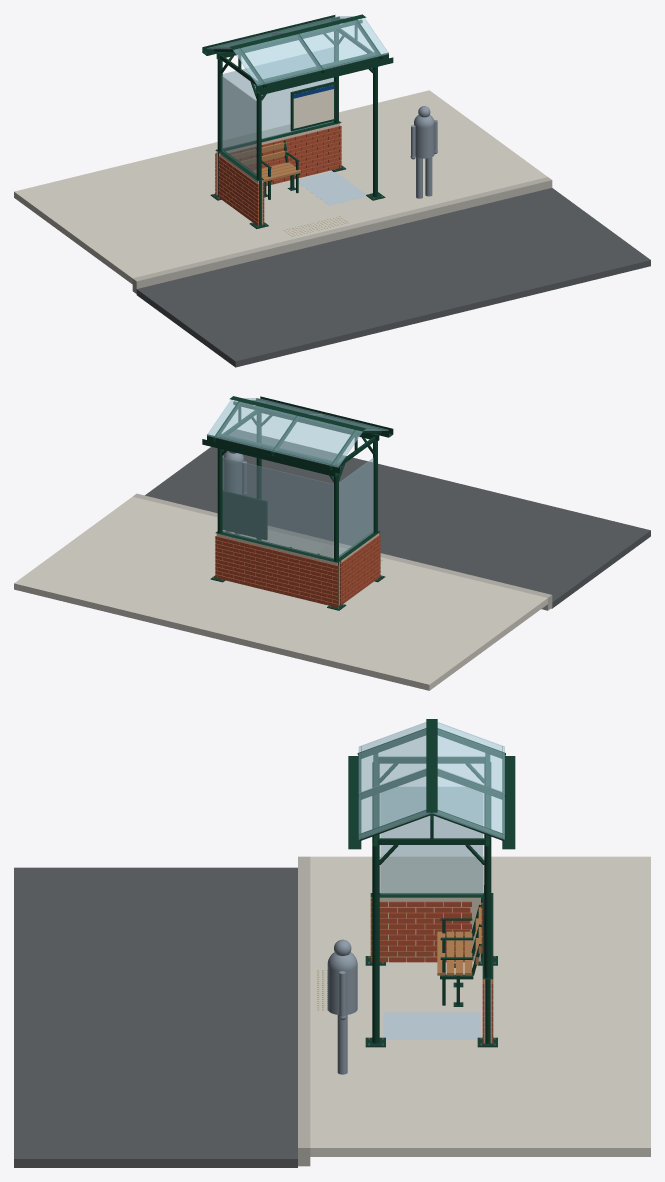
Rendered from mercado-compacto.glb.
3 renders of one model, top to bottom at view 1: azimuth 30°, elevation 25°; view 2: azimuth 150°, elevation 25°; view 3: azimuth 270°, elevation 25°, orthographic. The views are drawn at different scales.
Parts seen in each view (by area): view 1: A0-faixa-01, A0-passeio-01, A0-lancil-01, A3.1-vidro-costas-01, A2.1-vidro-cobertura-01, A2.1-vidro-cobertura-03, A3.4-tijolo-aparente-02, A3.1-vidro-lateral-01, A0-figura-01, A3.4-tijolo-aparente-03, A0-zona-cadeira-rodas-01, A4.3-painel-cartaz-01 (+7 smaller); view 2: A0-passeio-01, A0-faixa-01, A3.1-vidro-costas-01, A3.4-tijolo-aparente-01, A2.1-vidro-cobertura-02, A2.1-vidro-cobertura-04, A3.1-vidro-lateral-01, A4.3-painel-informacao-01, A3.4-tijolo-aparente-03, A0-lancil-01, A0-figura-01, A2.3-caleira-05 (+10 smaller); view 3: A0-passeio-01, A0-faixa-01, A3.1-vidro-lateral-01, A3.4-tijolo-aparente-04, A0-lancil-01, A2.1-vidro-cobertura-03, A2.1-vidro-cobertura-01, A2.1-vidro-cobertura-04, A2.1-vidro-cobertura-02, A0-zona-cadeira-rodas-01, A0-figura-01, A4.2-banco-assento-01 (+9 smaller).
Boxes of the visible parts, x1,y1,x2,y2 form: A0-faixa-01: (136,188,650,367); A0-passeio-01: (14,90,547,284); A0-lancil-01: (132,177,552,293); A3.1-vidro-costas-01: (222,47,333,148); A2.1-vidro-cobertura-01: (232,34,322,85); A2.1-vidro-cobertura-03: (299,18,388,69); A3.4-tijolo-aparente-02: (218,126,341,197); A3.1-vidro-lateral-01: (221,76,256,175); A0-figura-01: (410,106,437,198); A3.4-tijolo-aparente-03: (219,156,258,225); A0-zona-cadeira-rodas-01: (298,171,366,205); A4.3-painel-cartaz-01: (293,89,333,128); A0-passeio-01: (14,496,547,690); A0-faixa-01: (145,429,650,608); A3.1-vidro-costas-01: (222,457,333,559); A3.4-tijolo-aparente-01: (215,536,338,607); A2.1-vidro-cobertura-02: (273,415,362,467); A2.1-vidro-cobertura-04: (207,399,296,451); A3.1-vidro-lateral-01: (339,457,373,557); A4.3-painel-informacao-01: (223,491,267,539); A3.4-tijolo-aparente-03: (341,535,380,604); A0-lancil-01: (133,493,552,610); A0-figura-01: (222,451,246,534); A2.3-caleira-05: (207,434,339,473); A0-passeio-01: (310,856,650,1156); A0-faixa-01: (14,867,297,1167); A3.1-vidro-lateral-01: (380,787,483,894); A3.4-tijolo-aparente-04: (370,901,471,962); A0-lancil-01: (298,856,310,1166); A2.1-vidro-cobertura-03: (358,768,431,839); A2.1-vidro-cobertura-01: (358,722,426,792); A2.1-vidro-cobertura-04: (432,768,504,839); A2.1-vidro-cobertura-02: (437,722,504,792); A0-zona-cadeira-rodas-01: (383,1012,480,1039); A0-figura-01: (327,939,357,1074); A4.2-banco-assento-01: (437,906,481,975).
Bounding box in the file's own units: 8500 × 3858 × 7850.
